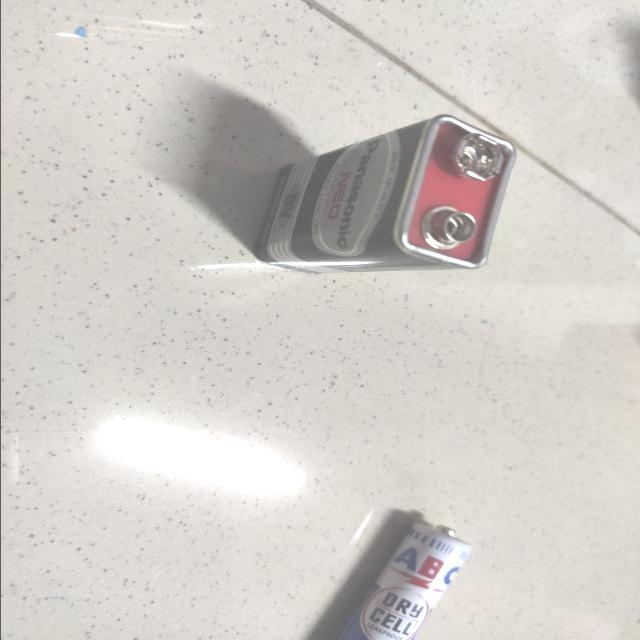9V: (248, 110, 536, 292)
AA: (294, 510, 480, 640)
